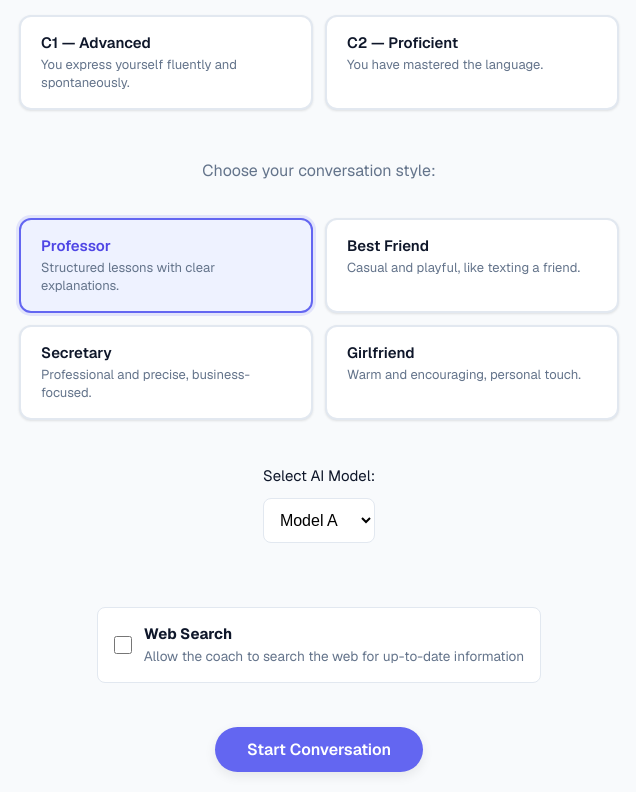
LevelSelector › shows loading state while creating conversation
Click the button "Start Conversation". click: (319, 750)
box: [215,727,423,772]
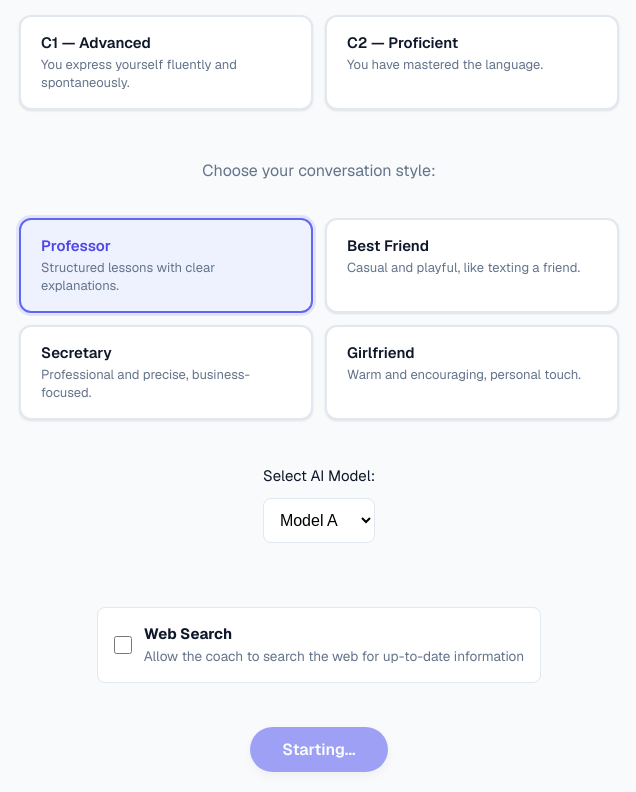
expect the button "Starting..." is disabled: met, box [250,727,388,772]
